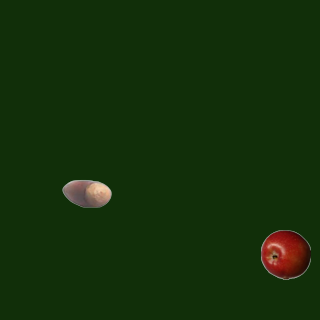Apple Braeburn: (260, 229, 310, 279)
Hazelnut: (61, 168, 111, 218)
